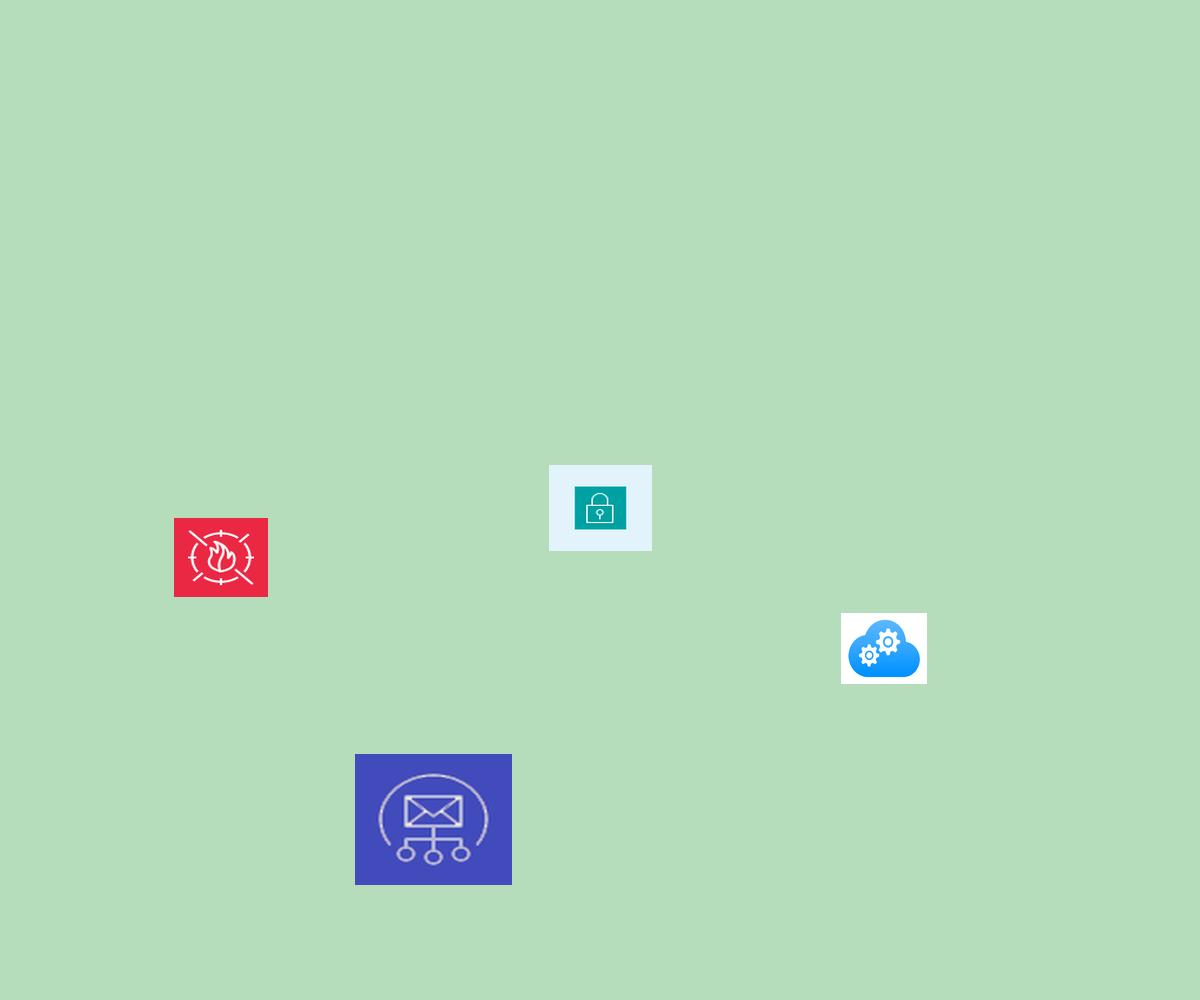AWS-Private-subnet: (549, 465, 652, 551)
AWS-Simple-Email-Service: (355, 754, 512, 885)
AWS-WAF: (174, 518, 268, 597)
Azure_cloud_services: (841, 613, 927, 684)
